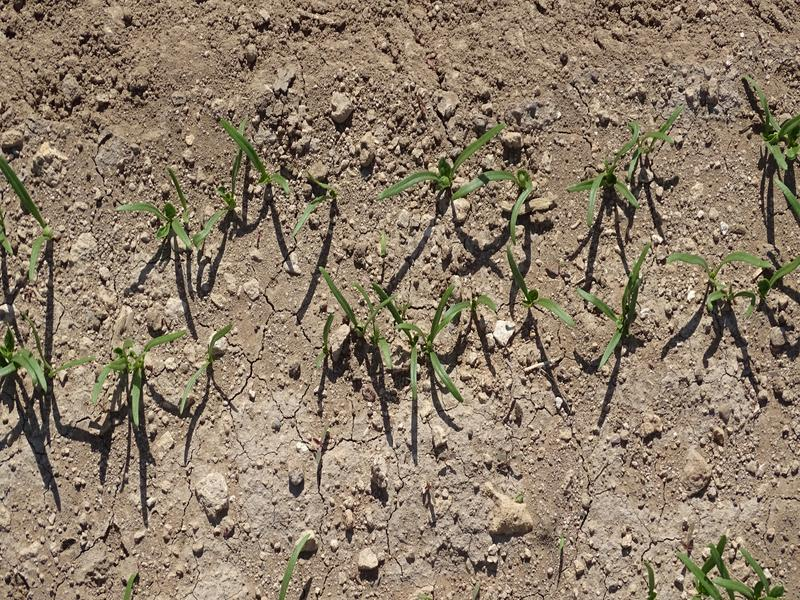Espinaca: (327, 285, 495, 399), (1, 324, 181, 428), (497, 246, 650, 365), (572, 105, 681, 217), (371, 129, 535, 189), (659, 241, 793, 311), (119, 172, 221, 259), (737, 81, 800, 210), (1, 161, 54, 282), (221, 117, 292, 191), (183, 324, 233, 411)
